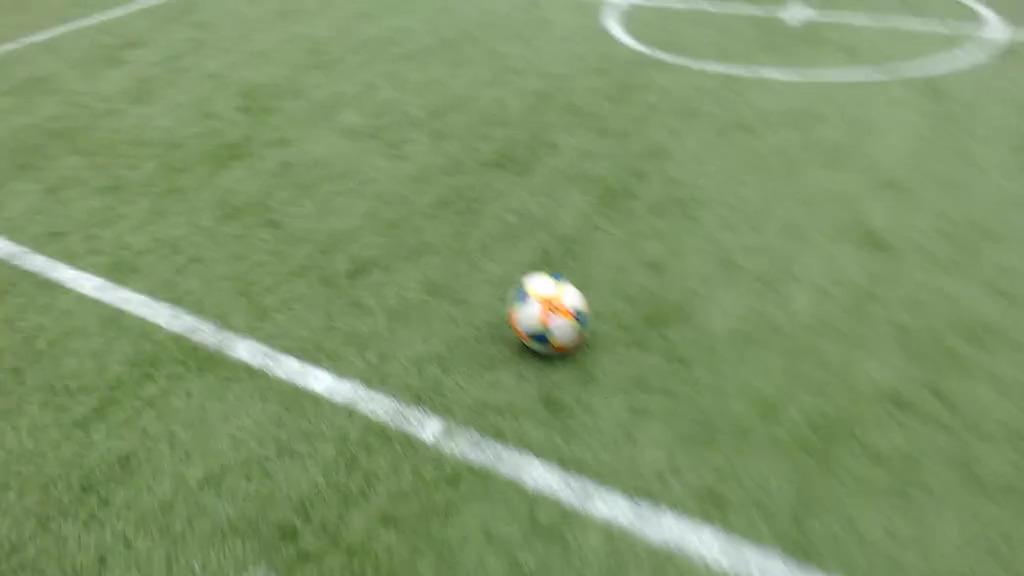ball: (502, 258, 603, 364)
